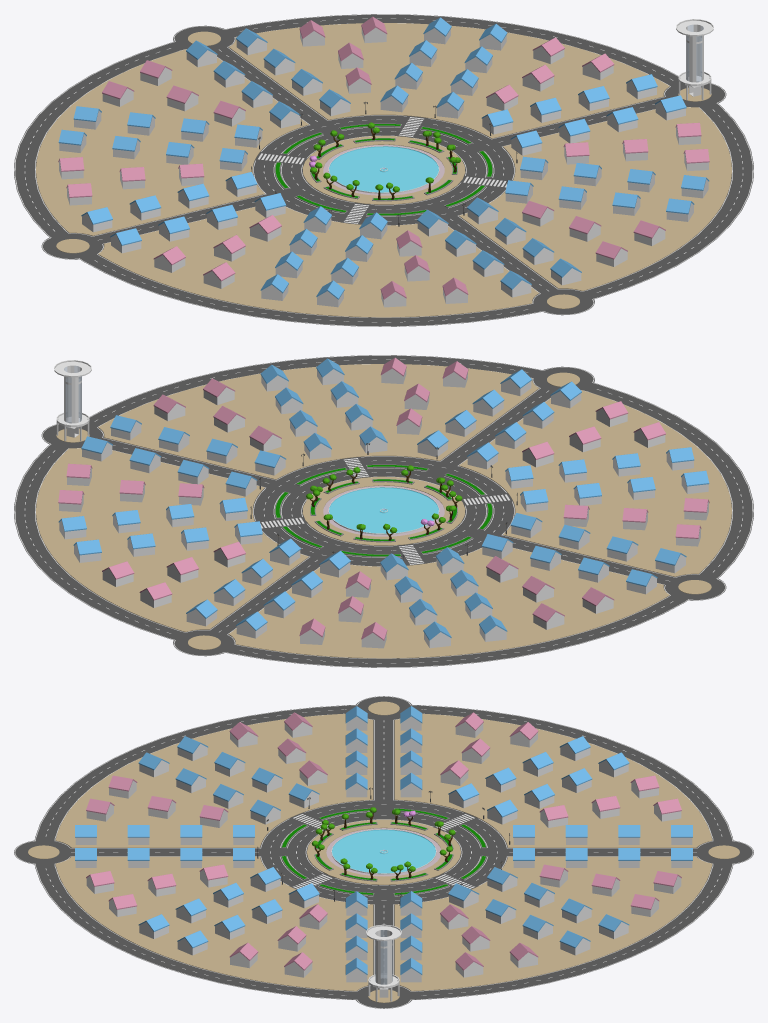
The model's file is roundtownmap.glb.
3 views of the same model, one above another, from view 1: azimuth 30°, elevation 25°; view 2: azimuth 150°, elevation 25°; view 3: azimuth 270°, elevation 25° (orthographic). The views are drawn at different scales.
Parts seen in each view (by area): view 1: Circle.005, Road, House, House.003, House.002, House.004, House.001, outerfountain, water, peoplepathoutsideoffountain, Circle, Circle.008 (+9 smaller); view 2: Circle.005, Road, House, House.004, House.003, House.002, House.001, outerfountain, water, peoplepathoutsideoffountain, Circle, Circle.008 (+9 smaller); view 3: Circle.005, Road, House, House.001, House.003, House.004, House.002, outerfountain, water, peoplepathoutsideoffountain, Circle.008, Circle.010 (+9 smaller).
Part boxes in pixels (bbox=[...]): Circle.005: bbox=[36, 23, 731, 317]; Road: bbox=[14, 14, 753, 326]; House: bbox=[58, 17, 709, 307]; House.003: bbox=[58, 16, 709, 307]; House.002: bbox=[119, 42, 648, 281]; House.004: bbox=[66, 20, 701, 303]; House.001: bbox=[178, 67, 589, 256]; outerfountain: bbox=[328, 146, 439, 193]; water: bbox=[329, 146, 438, 192]; peoplepathoutsideoffountain: bbox=[302, 135, 465, 204]; Circle: bbox=[275, 123, 492, 216]; Circle.008: bbox=[676, 19, 713, 86]; Circle.005: bbox=[36, 364, 731, 658]; Road: bbox=[14, 355, 753, 667]; House: bbox=[58, 358, 709, 648]; House.004: bbox=[58, 357, 709, 648]; House.003: bbox=[66, 361, 701, 644]; House.002: bbox=[119, 383, 648, 622]; House.001: bbox=[178, 408, 589, 597]; outerfountain: bbox=[328, 487, 439, 534]; water: bbox=[329, 487, 438, 533]; peoplepathoutsideoffountain: bbox=[302, 476, 465, 545]; Circle: bbox=[275, 464, 492, 557]; Circle.008: bbox=[54, 360, 91, 427]; Circle.005: bbox=[55, 713, 712, 991]; Road: bbox=[34, 704, 733, 1000]; House: bbox=[75, 706, 692, 982]; House.001: bbox=[199, 760, 568, 929]; House.003: bbox=[86, 712, 681, 977]; House.004: bbox=[86, 712, 681, 977]; House.002: bbox=[147, 738, 620, 951]; outerfountain: bbox=[331, 829, 436, 874]; water: bbox=[332, 829, 435, 873]; peoplepathoutsideoffountain: bbox=[307, 819, 460, 884]; Circle.008: bbox=[366, 924, 401, 988]; Circle.010: bbox=[35, 705, 732, 999].
Bounding box in the file's own units: 422 × 40.26 × 422.
